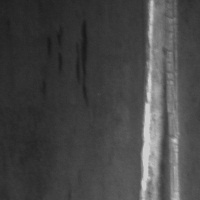inclusion: (74, 19, 92, 105), (47, 26, 66, 70)
scratches: (139, 1, 184, 198)
